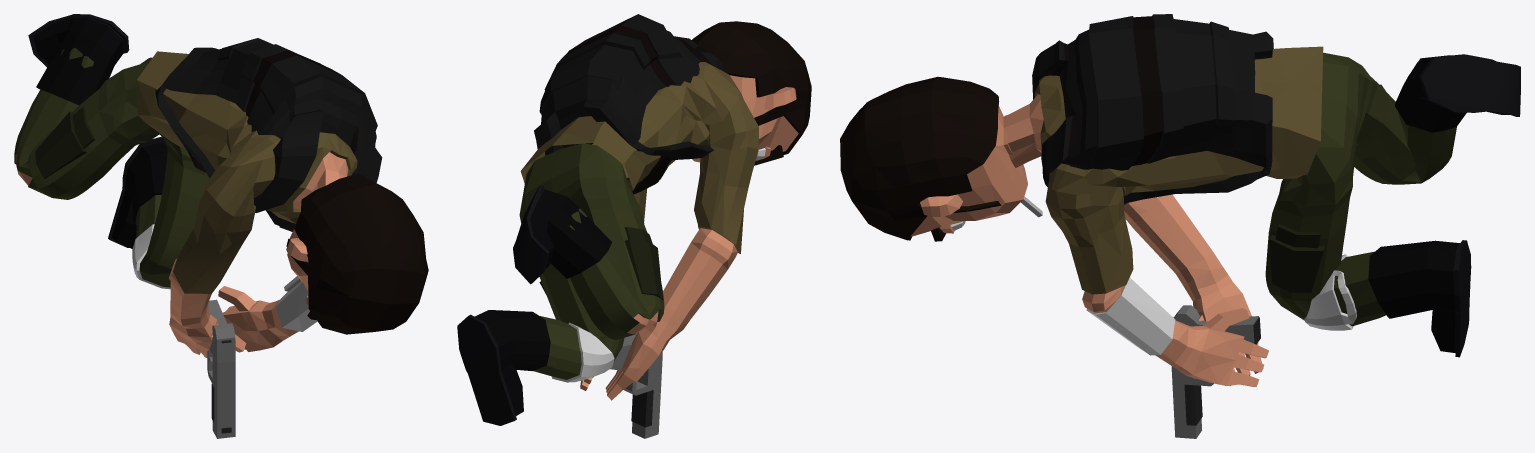
The model's file is frame_0042.obj.
3 renders of one model, left to right at view 1: azimuth 30°, elevation 25°; view 2: azimuth 150°, elevation 25°; view 3: azimuth 270°, elevation 25°, orthographic. The views are drawn at different scales.
Visible parts, largest first — view 1: Body, Gun; view 2: Body, Gun; view 3: Body, Gun.
Boxes of the visible parts, x1,y1,x2,y2 form: Body: [14, 14, 428, 357]; Gun: [207, 299, 235, 438]; Body: [457, 14, 811, 425]; Gun: [610, 332, 662, 438]; Body: [840, 14, 1520, 386]; Gun: [1171, 305, 1260, 438].
Size of the model in its own units: 1.43 by 2.39 by 3.4.
